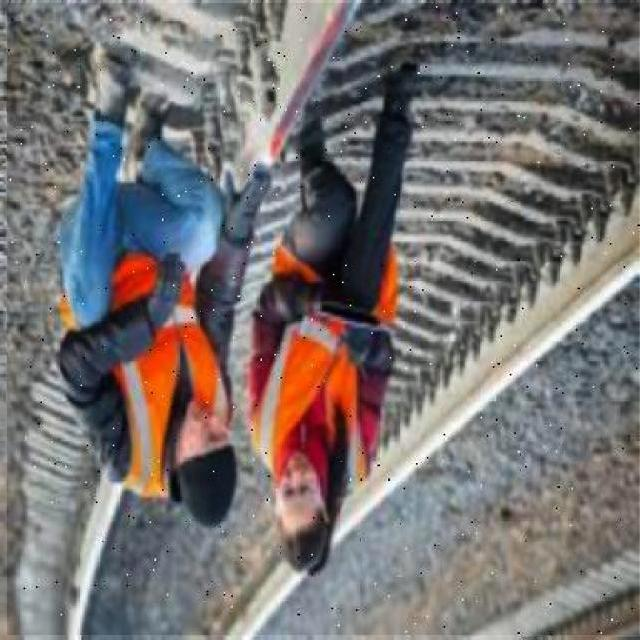rail: (9, 4, 640, 636)
